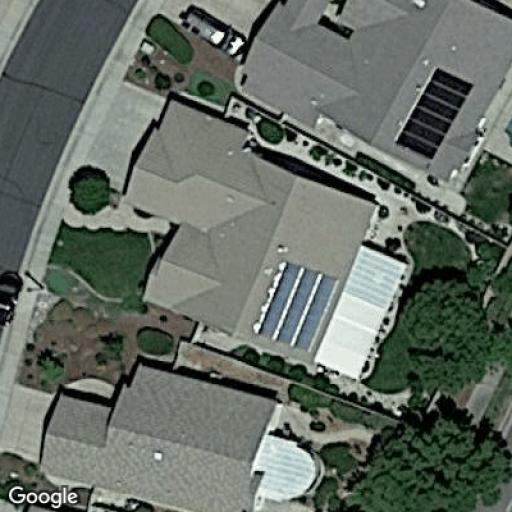solar-panel: (390, 64, 477, 162), (254, 256, 340, 354)
